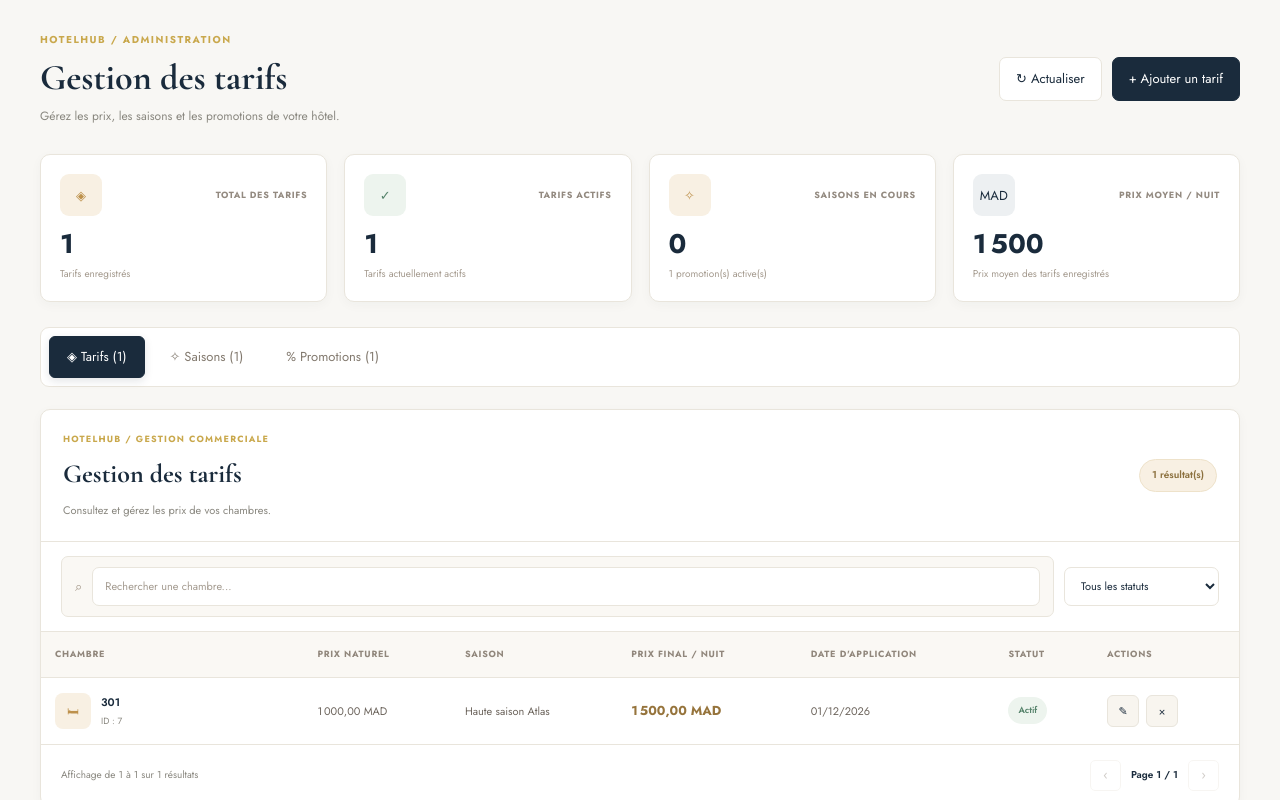
Test: AdminTarifsPage › crée un tarif avec coefficient saisonnier
The width and height of the screenshot is (1280, 800).
Expected: the table is shown, x1=41 y1=632 x2=1239 y2=744
Step 1. Click the button "+ Ajouter un tarif" → (1176, 79), box x1=1112 y1=57 x2=1240 y2=101
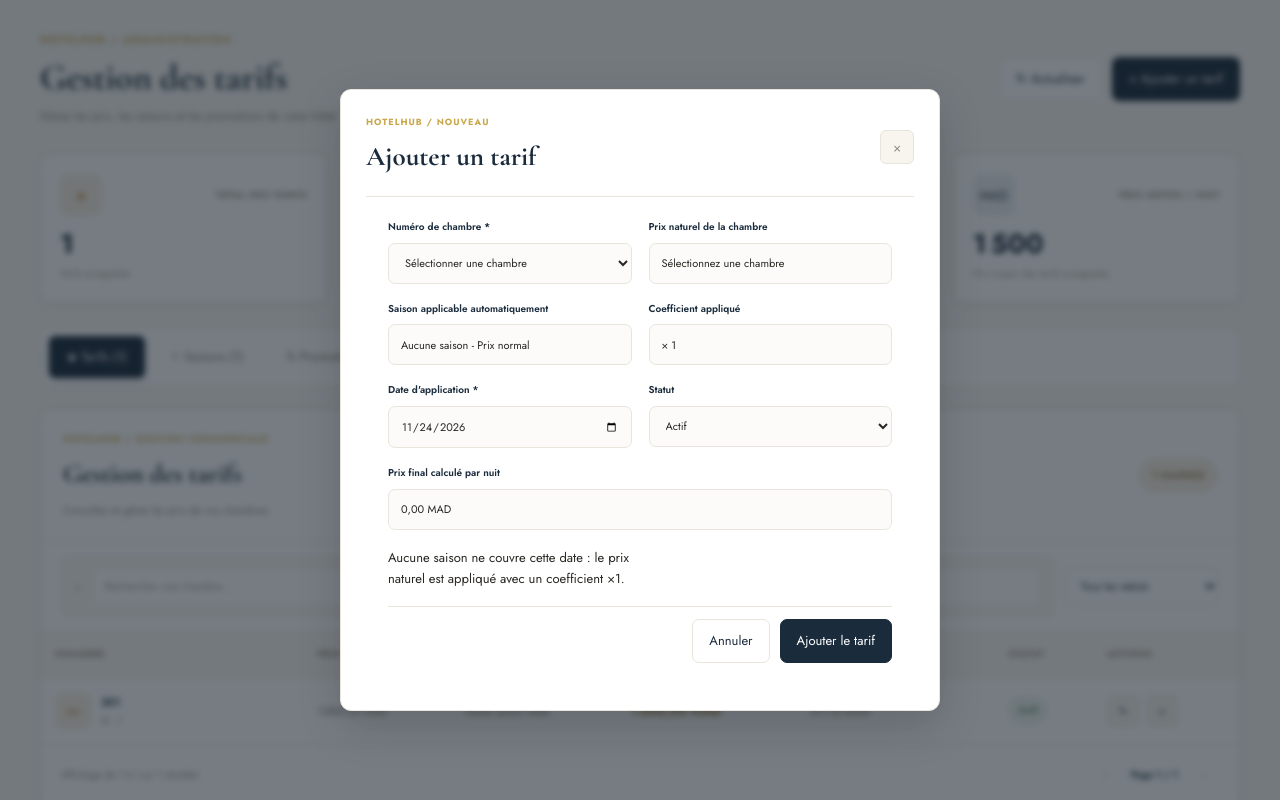
Step 2. Select "Chambre 301 - suite" in the dropdown below "Numéro de chambre *" → (510, 264), box x1=388 y1=243 x2=632 y2=284
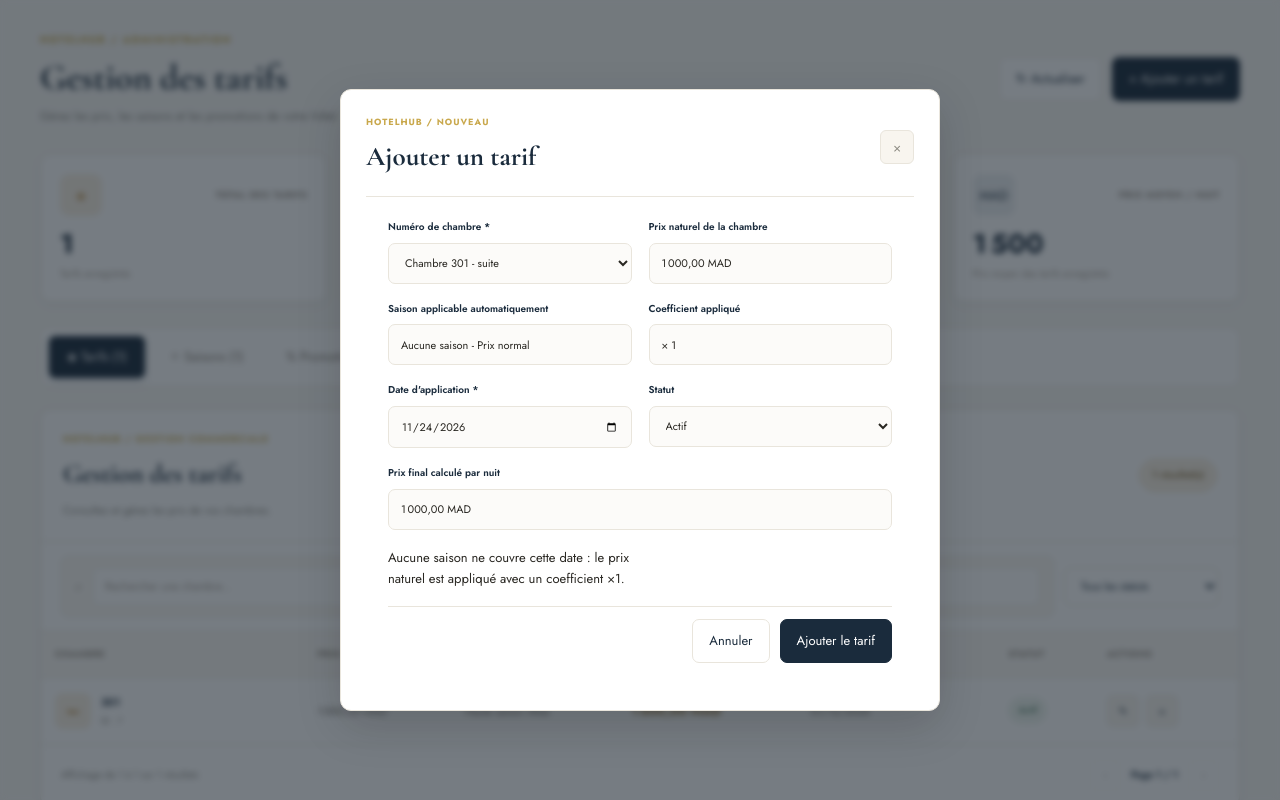
Step 3. Type "2026-12-01" into the date field → (510, 427), box x1=388 y1=406 x2=632 y2=448
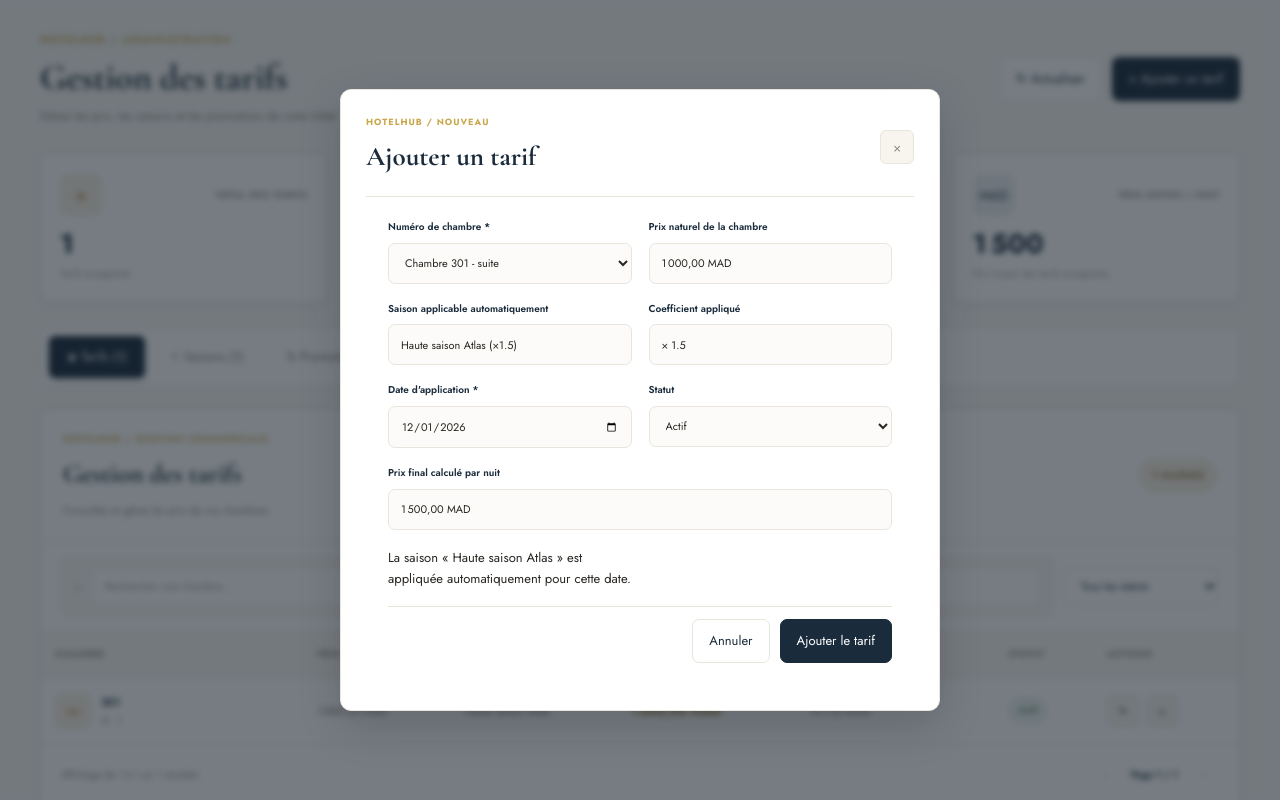
Step 4. Submit the form, box x1=366 y1=198 x2=914 y2=685
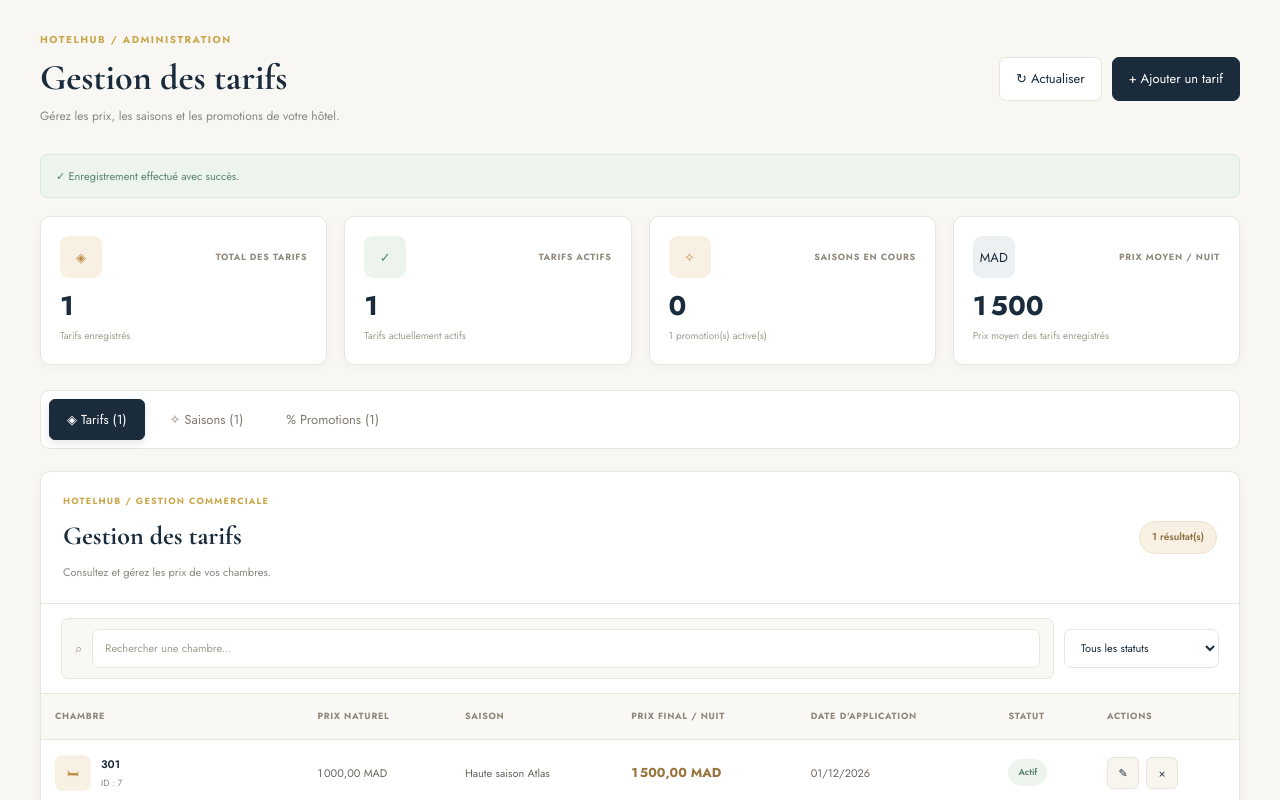
Now the dialog is gone
